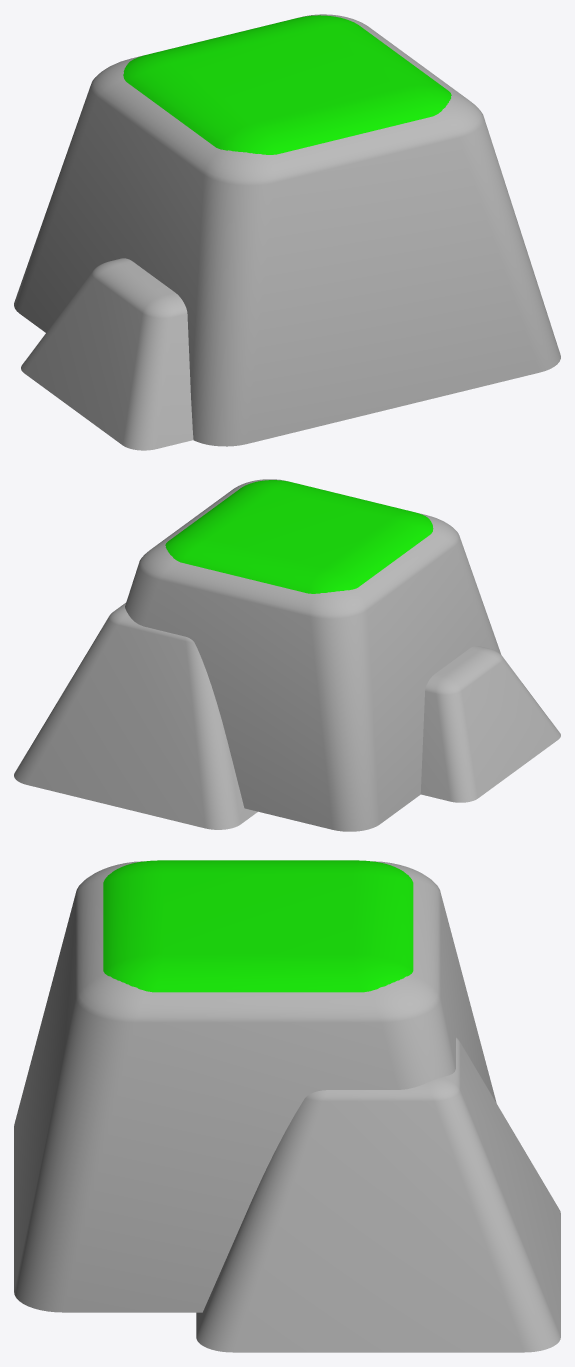
The model's file is stone_3.fbx.
The picture shows the model from 3 angles, top to bottom: view 1: azimuth 30°, elevation 25°; view 2: azimuth 150°, elevation 25°; view 3: azimuth 270°, elevation 25°; orthographic projection. The views are drawn at different scales.
Visible parts, largest first — view 1: Cube; view 2: Cube; view 3: Cube.
Boxes of the visible parts, x1,y1,x2,y2 form: Cube: [14, 14, 560, 450]; Cube: [14, 479, 560, 831]; Cube: [14, 860, 560, 1352].
Size of the model in its own units: 846 by 459 by 736.
